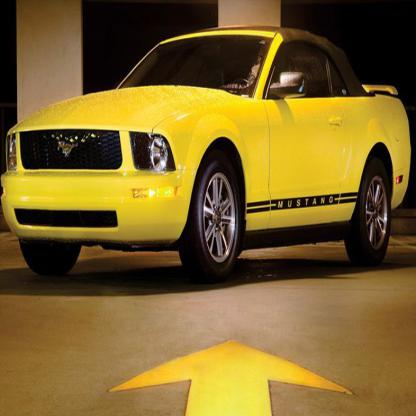Vehicle: (1, 28, 412, 281)
